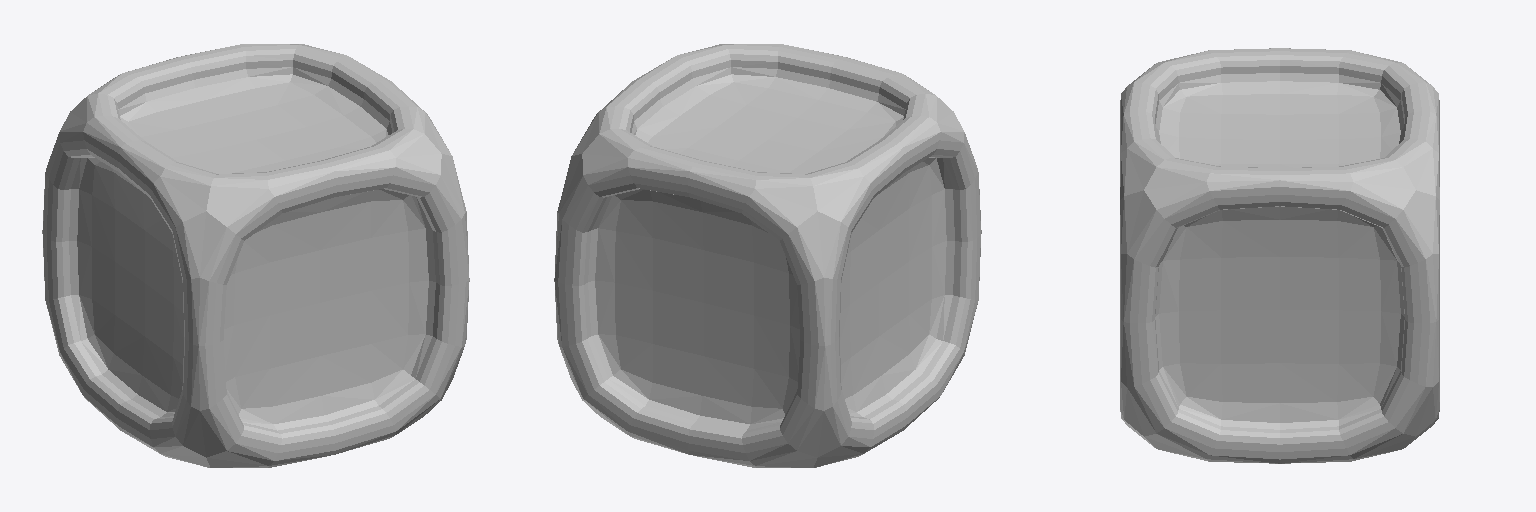
File: boxbbox.obj
3 views of the same model, side by side, from view 1: azimuth 30°, elevation 25°; view 2: azimuth 150°, elevation 25°; view 3: azimuth 270°, elevation 25° (orthographic).
Visible parts, largest first — view 1: Cube; view 2: Cube; view 3: Cube.
Part boxes in pixels (x1,y1,x2,y2): Cube: (42, 44, 469, 467); Cube: (554, 44, 981, 467); Cube: (1120, 48, 1439, 463).
Size of the model in its own units: 2 by 2 by 2.